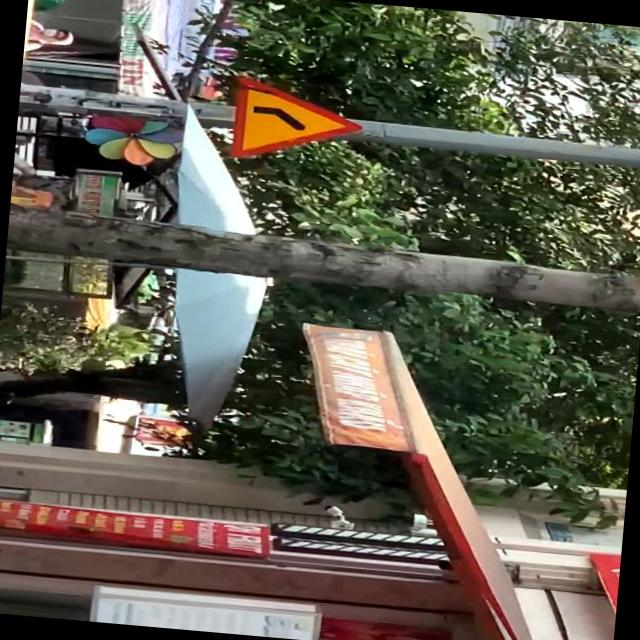W-201b: (228, 76, 364, 166)
